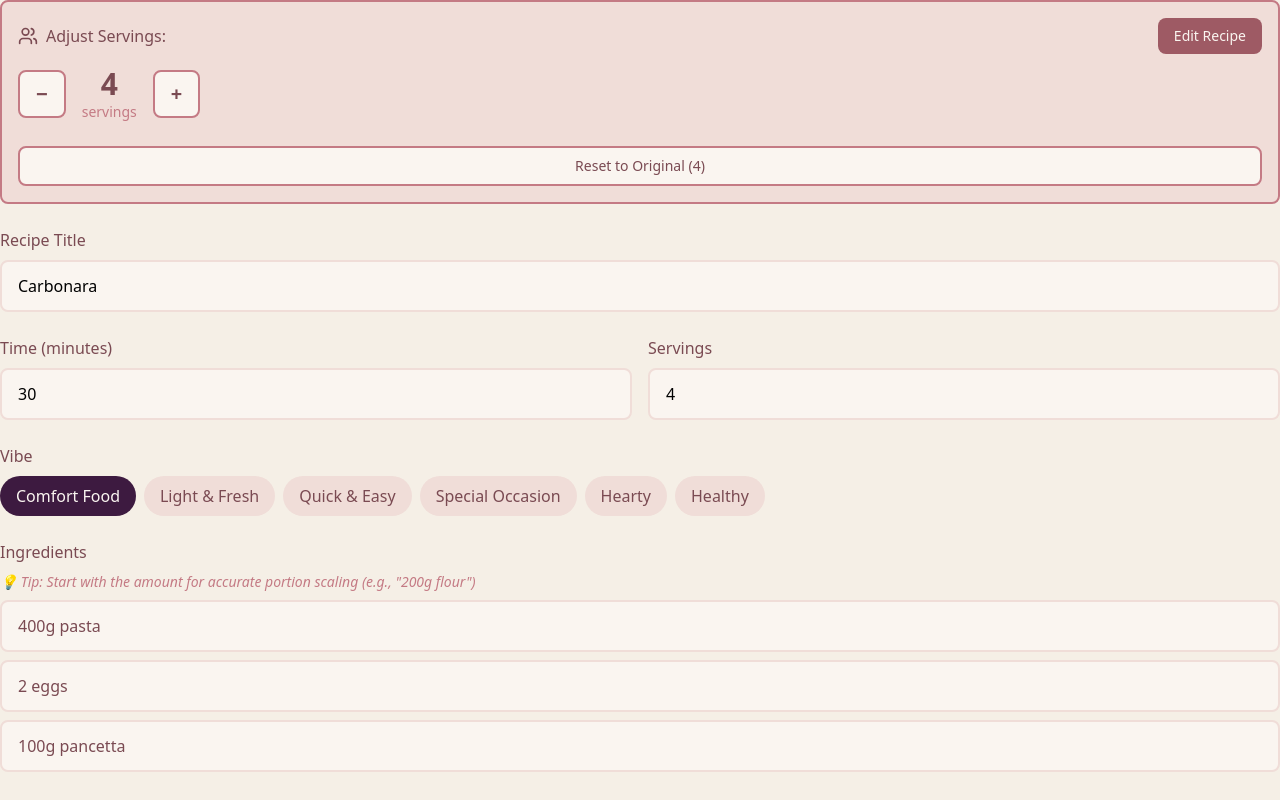
Test: switching from view to edit mode › should switch to edit mode when Edit Recipe is clicked
Click the button "Edit Recipe".
click(1210, 36)  # box left=1158, top=18, right=1262, bottom=54
(page scrolled)
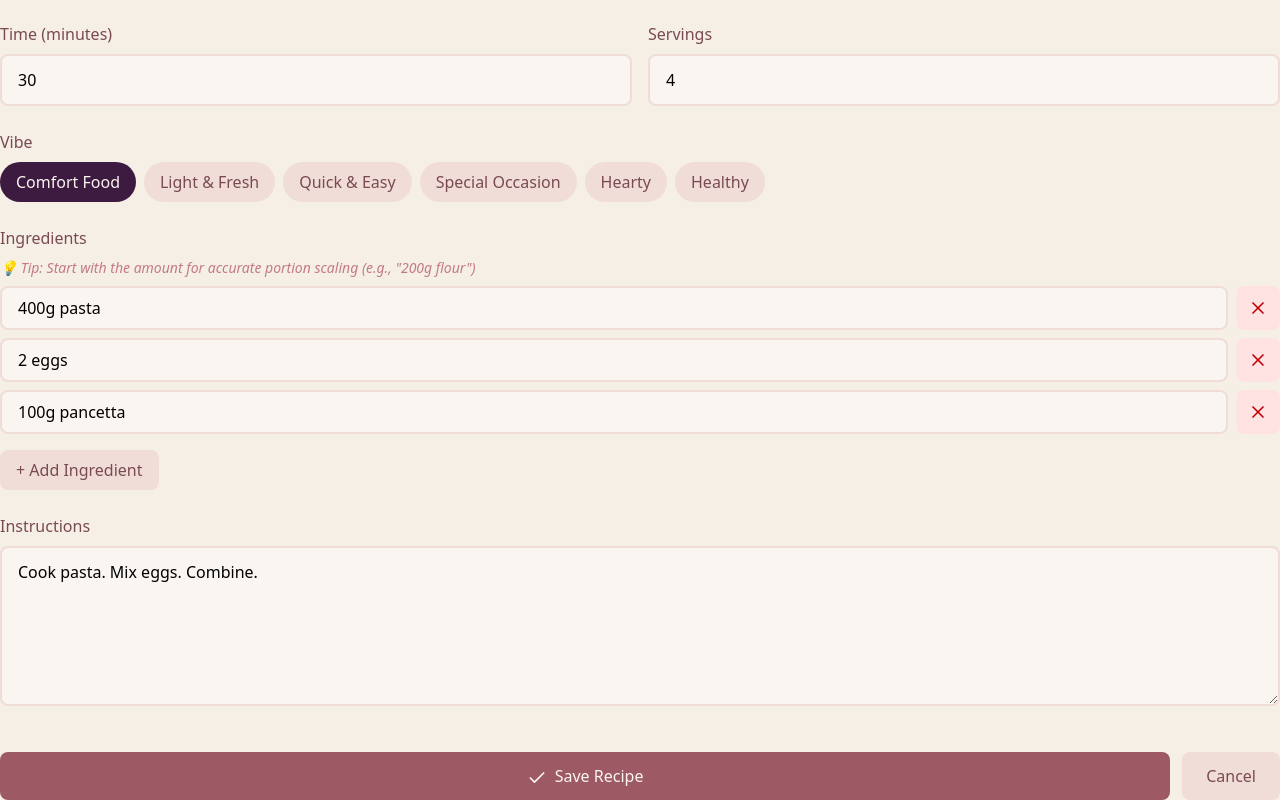
Expected: the button "Save Recipe" is shown, left=0, top=752, right=1170, bottom=799
